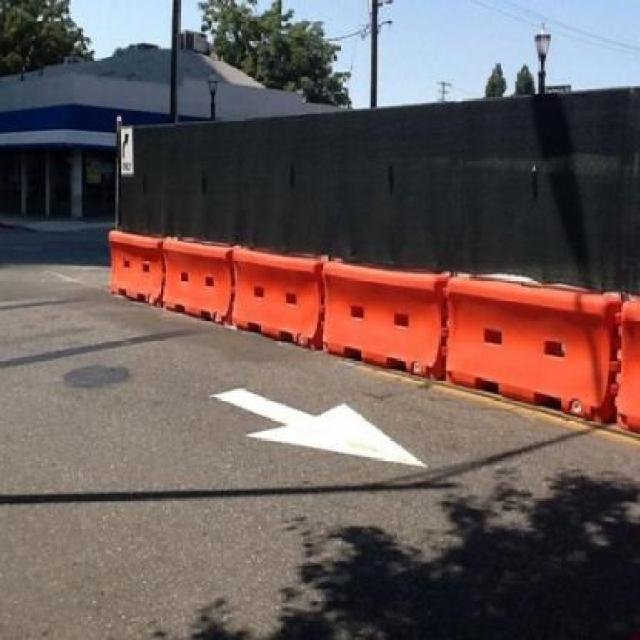fallen_object: (431, 266, 640, 430), (280, 250, 449, 404), (215, 239, 350, 353), (152, 232, 227, 344), (107, 219, 171, 317)
